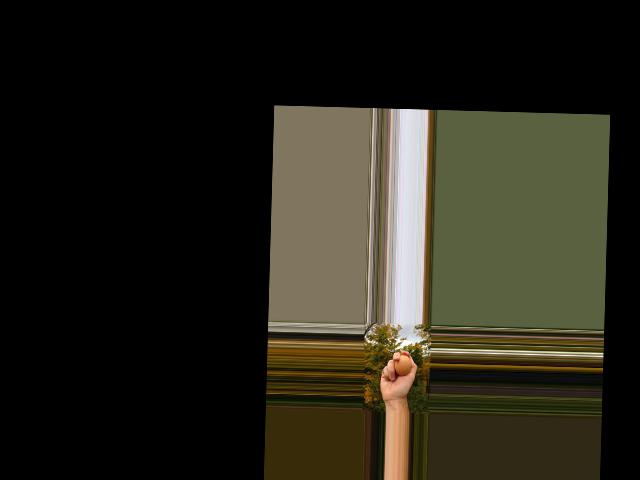egg: (393, 354, 411, 375)
